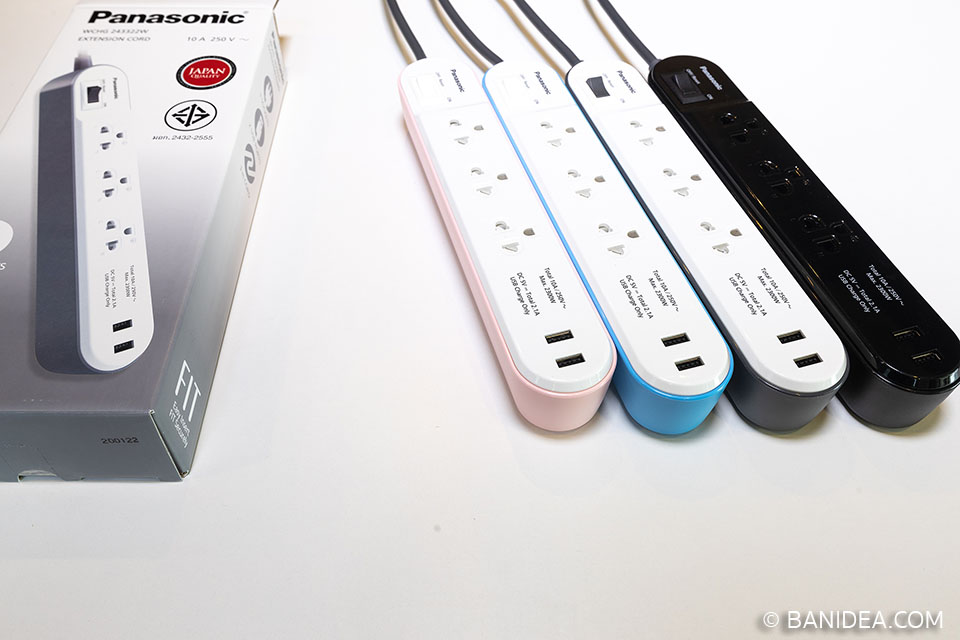Three_eye_plug: (646, 45, 960, 449), (567, 49, 848, 446), (484, 44, 734, 444), (392, 52, 617, 450)
